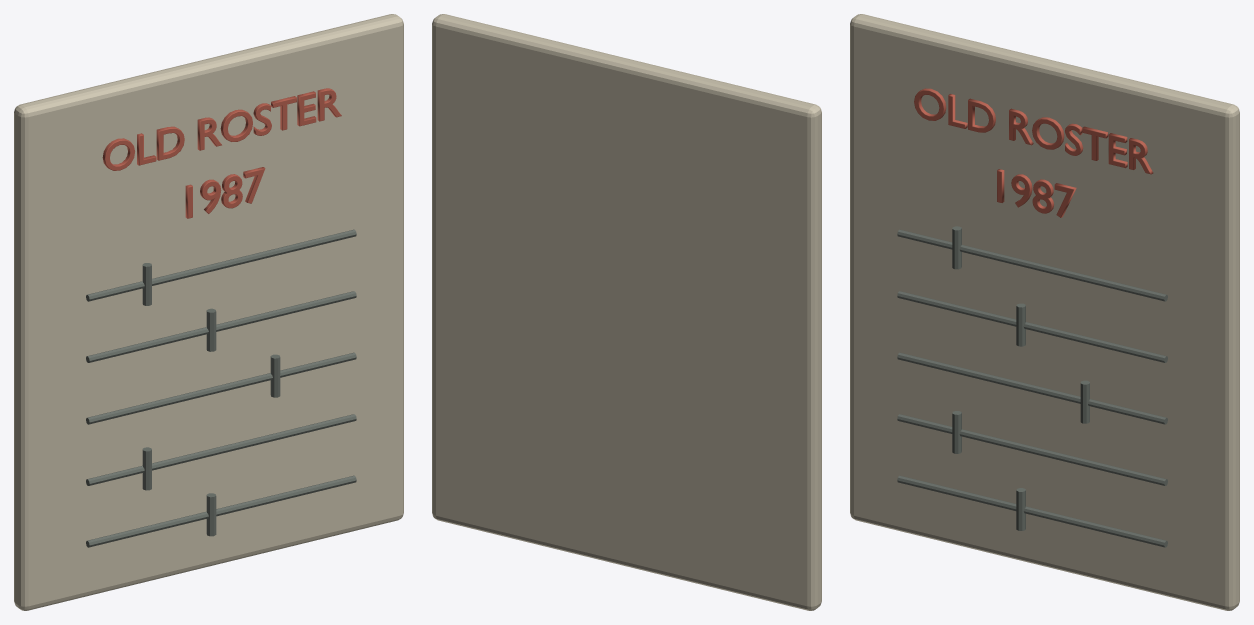
Rendered from roster-old-v1-C0gUWg1j.glb.
3 renders of one model, left to right at view 1: azimuth 30°, elevation 25°; view 2: azimuth 150°, elevation 25°; view 3: azimuth 330°, elevation 25°, orthographic.
Visible parts, largest first — view 1: Roster sheet, Roster heading, Roster row 1, Roster row 3, Roster row 5, Roster row 2, Roster row 4, Roster year; view 2: Roster sheet; view 3: Roster sheet, Roster heading, Roster row 4, Roster row 1, Roster row 3, Roster row 5, Roster row 2, Roster year.
Boxes of the visible parts, x1,y1,x2,y2 form: Roster sheet: [14, 14, 403, 610]; Roster heading: [102, 88, 341, 170]; Roster row 1: [86, 229, 356, 301]; Roster row 3: [86, 352, 356, 424]; Roster row 5: [86, 475, 356, 547]; Roster row 2: [86, 291, 356, 362]; Roster row 4: [86, 414, 356, 485]; Roster year: [185, 167, 265, 218]; Roster sheet: [432, 14, 821, 610]; Roster sheet: [850, 14, 1239, 610]; Roster heading: [914, 88, 1153, 174]; Roster row 4: [897, 414, 1167, 485]; Roster row 1: [897, 229, 1167, 301]; Roster row 3: [897, 352, 1167, 424]; Roster row 5: [897, 475, 1167, 547]; Roster row 2: [897, 291, 1167, 362]; Roster year: [997, 169, 1076, 217].
Size of the model in its own units: 1.44 by 1.8 by 0.136.
